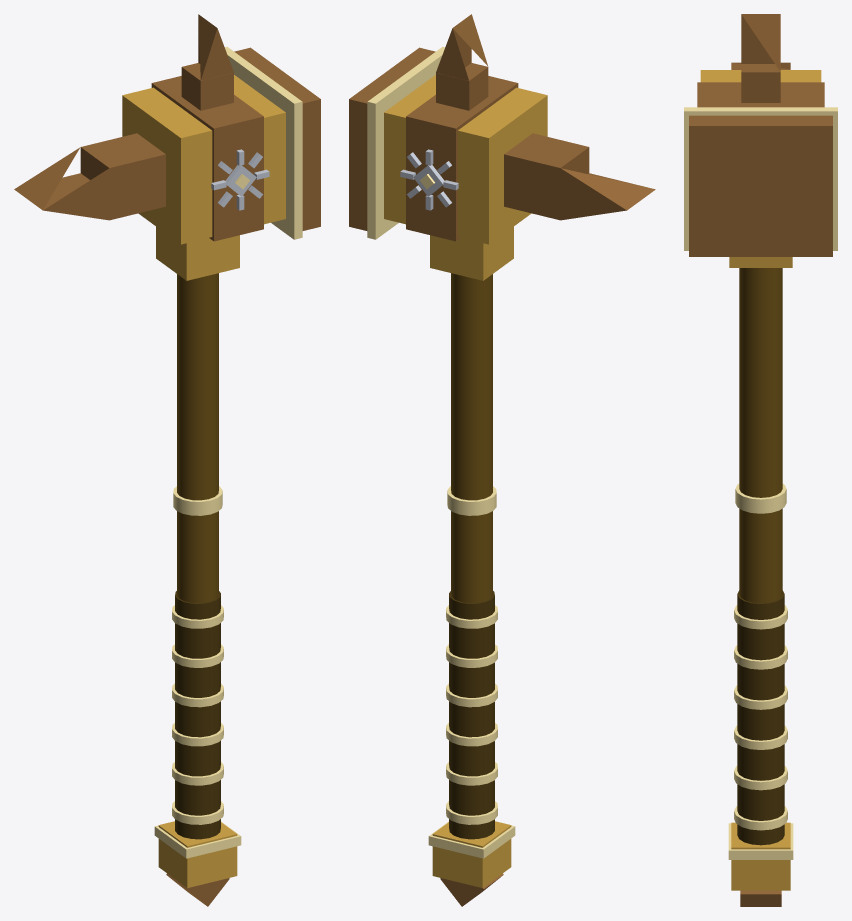
3 renders of one model, left to right at view 1: azimuth 30°, elevation 25°; view 2: azimuth 150°, elevation 25°; view 3: azimuth 270°, elevation 25°, orthographic. The views are drawn at different scales.
Parts seen in each view (by area): view 1: colossus-warhammer; view 2: colossus-warhammer; view 3: colossus-warhammer.
Part boxes in pixels (bbox=[...]): colossus-warhammer: bbox=[14, 14, 320, 906]; colossus-warhammer: bbox=[349, 14, 655, 906]; colossus-warhammer: bbox=[684, 14, 837, 906].
Size of the model in its own units: 0.3634 by 1.18 by 0.1837.
